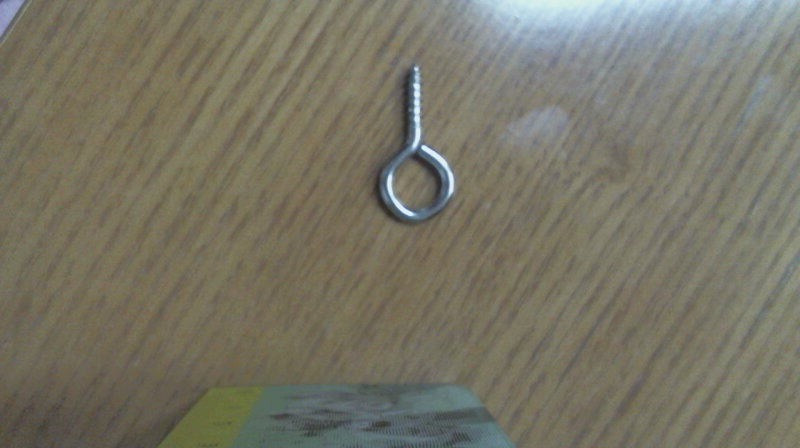O001: (369, 61, 461, 231)
